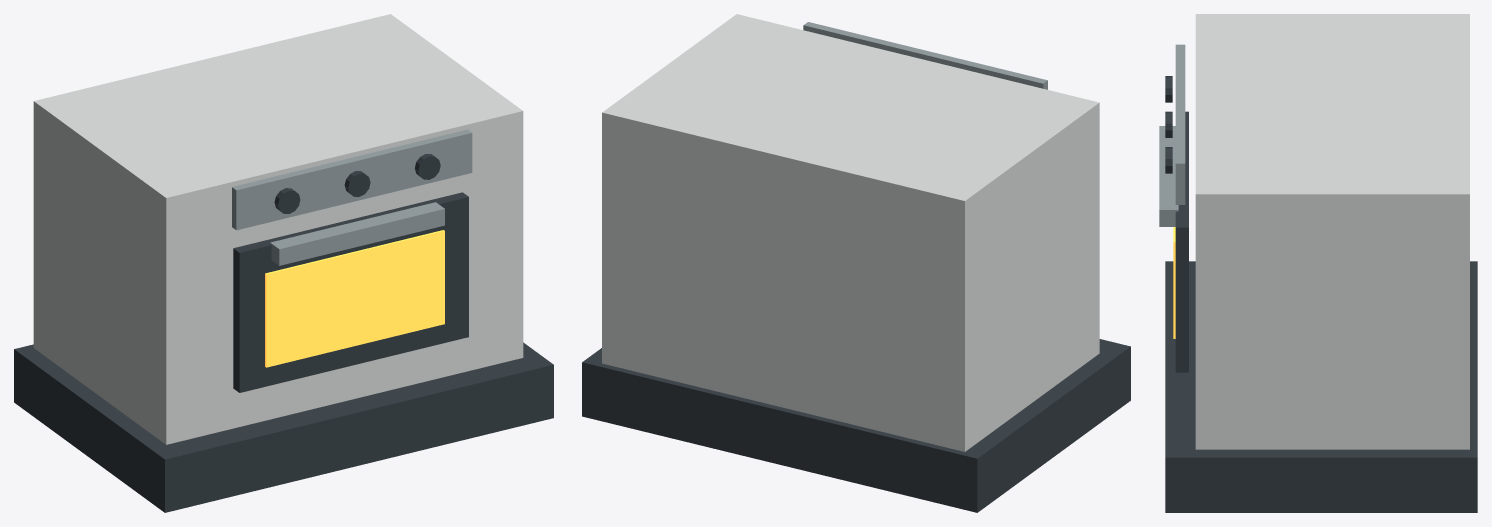
Rendered from Oven.glb.
The picture shows the model from 3 angles, left to right: view 1: azimuth 30°, elevation 25°; view 2: azimuth 150°, elevation 25°; view 3: azimuth 270°, elevation 25°; orthographic projection. The views are drawn at different scales.
Parts seen in each view (by area): view 1: Body, Base, OvenWorkingGlowMesh, Door, Panel, Handle; view 2: Body, Base, Panel; view 3: Body, Base, Door, Panel, Handle.
Boxes of the visible parts, bbox=[...] form: Body: bbox=[33, 14, 523, 444]; Base: bbox=[14, 342, 553, 512]; OvenWorkingGlowMesh: bbox=[265, 230, 444, 367]; Door: bbox=[233, 192, 468, 392]; Panel: bbox=[232, 129, 472, 230]; Handle: bbox=[270, 202, 444, 265]; Body: bbox=[602, 14, 1099, 451]; Base: bbox=[582, 339, 1130, 512]; Panel: bbox=[803, 22, 1047, 89]; Body: bbox=[1195, 14, 1469, 449]; Base: bbox=[1165, 261, 1477, 512]; Door: bbox=[1175, 111, 1188, 372]; Panel: bbox=[1175, 44, 1185, 204]; Handle: bbox=[1159, 126, 1178, 226].
Size of the model in its own units: 1.22 by 0.9 by 0.835.
